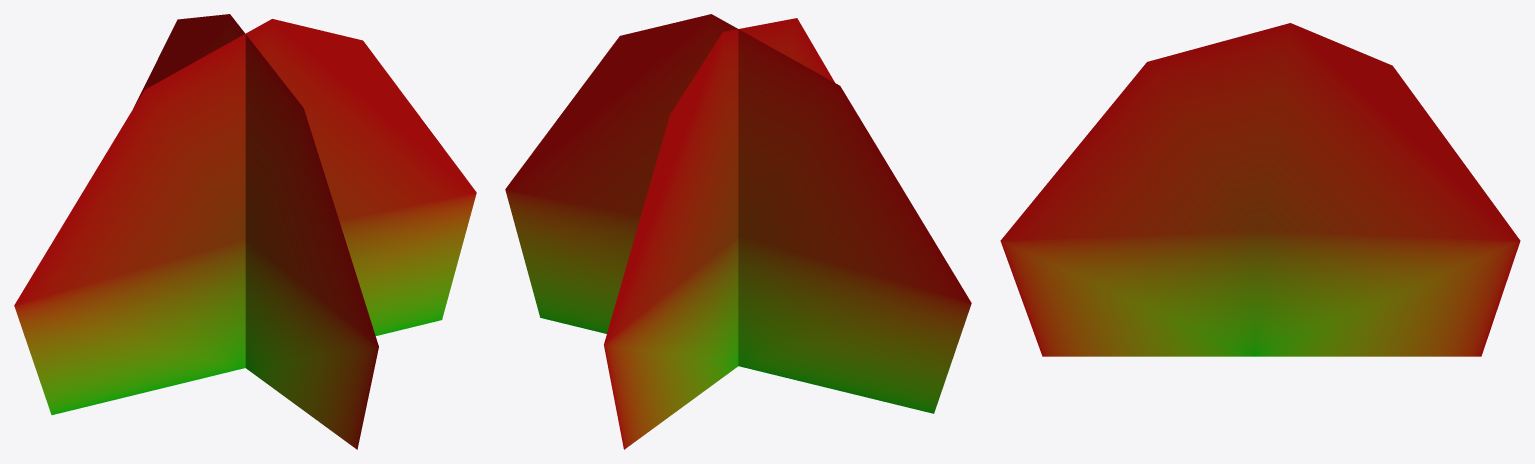
The model's file is Kikuyu Grass_LOD6_Var2_wiljearqx.fbx.
3 renders of one model, left to right at view 1: azimuth 30°, elevation 25°; view 2: azimuth 150°, elevation 25°; view 3: azimuth 270°, elevation 25°, orthographic. The views are drawn at different scales.
Visible parts, largest first — view 1: _gvfs_Var2_LOD6; view 2: _gvfs_Var2_LOD6; view 3: _gvfs_Var2_LOD6.
Boxes of the visible parts, x1=… form: _gvfs_Var2_LOD6: x1=14, y1=14, x2=476, y2=449; _gvfs_Var2_LOD6: x1=505, y1=14, x2=971, y2=449; _gvfs_Var2_LOD6: x1=1000, y1=23, x2=1520, y2=356.
Bounding box in the file's own units: 85.67 × 60.64 × 85.67.
